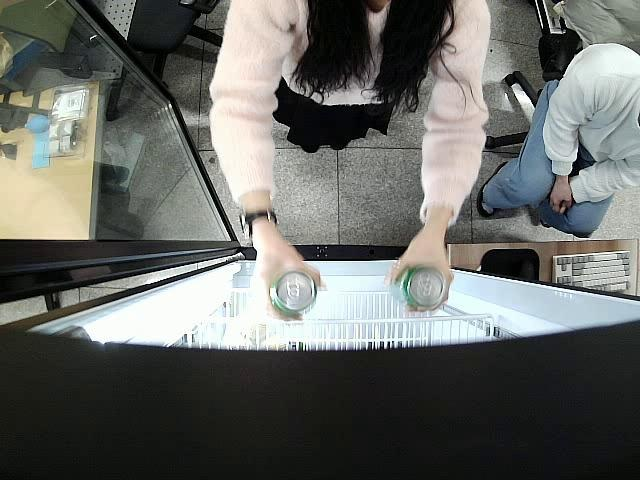12_chilsungCider: (388, 264, 444, 310), (270, 268, 316, 319)
